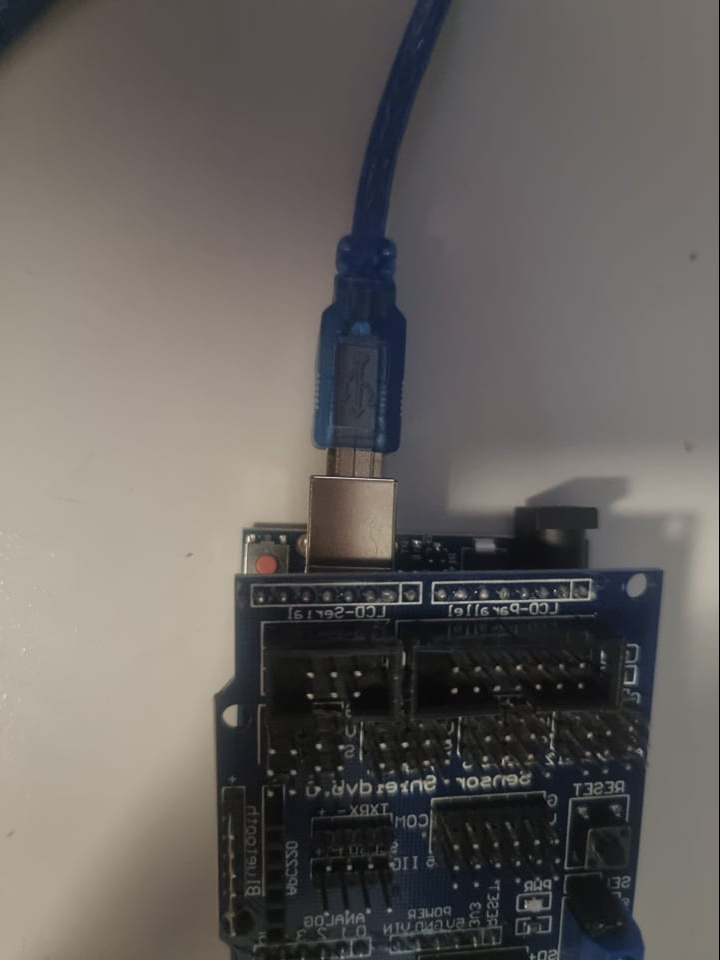5V EXPANSION: (203, 573, 654, 960)
UNO R3: (225, 473, 667, 570)
